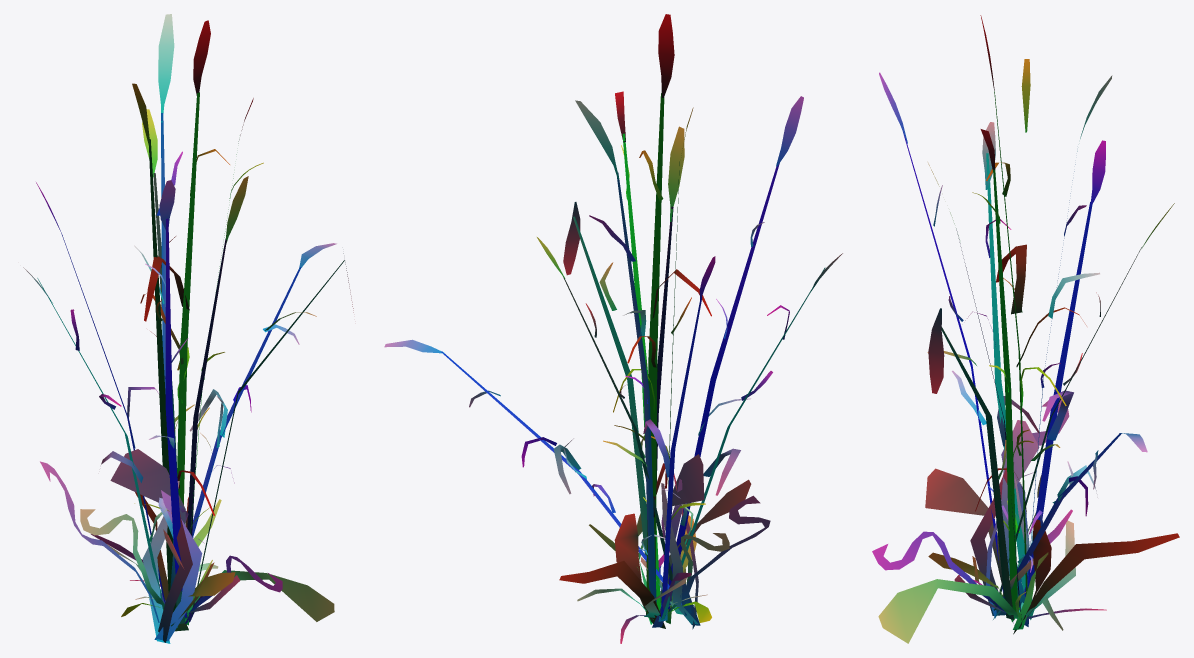
Rendered from Wheat_Grass_tdcrdbur_Low_tdcrdbur_VarC_LOD1.fbx.
The picture shows the model from 3 angles, left to right: view 1: azimuth 30°, elevation 25°; view 2: azimuth 150°, elevation 25°; view 3: azimuth 270°, elevation 25°; orthographic projection. The views are drawn at different scales.
Visible parts, largest first — view 1: _e7f6_VarC_LOD2; view 2: _e7f6_VarC_LOD2; view 3: _e7f6_VarC_LOD2.
Boxes of the visible parts, box(x1,y1,x2,y2) form: _e7f6_VarC_LOD2: box(23, 14, 353, 643); _e7f6_VarC_LOD2: box(384, 14, 842, 643); _e7f6_VarC_LOD2: box(872, 15, 1179, 643).
Bounding box in the file's own units: 87.08 × 130 × 58.37.
